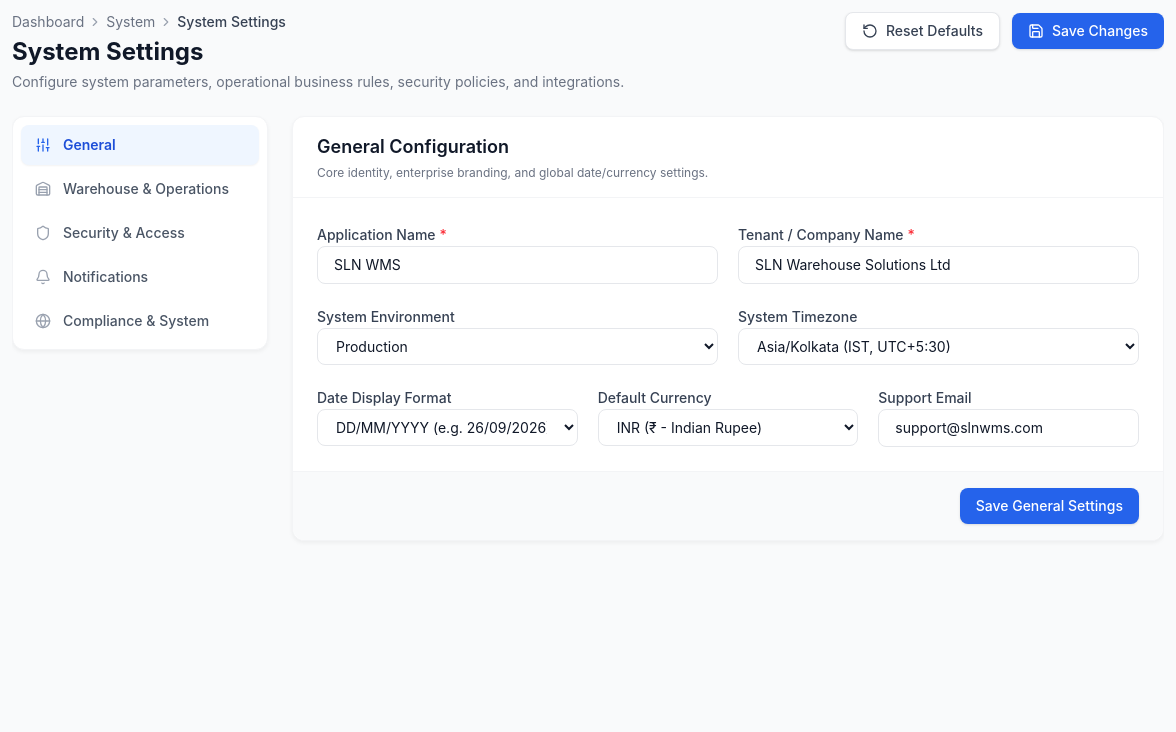
Scenario: SystemSettingsPage Component › should update settings and save to localStorage with success alert
The image size is (1176, 732).
Type "Enterprise WMS Pro" into the field labelled "Application Name*" at [518, 265], box [317,246,718,284]
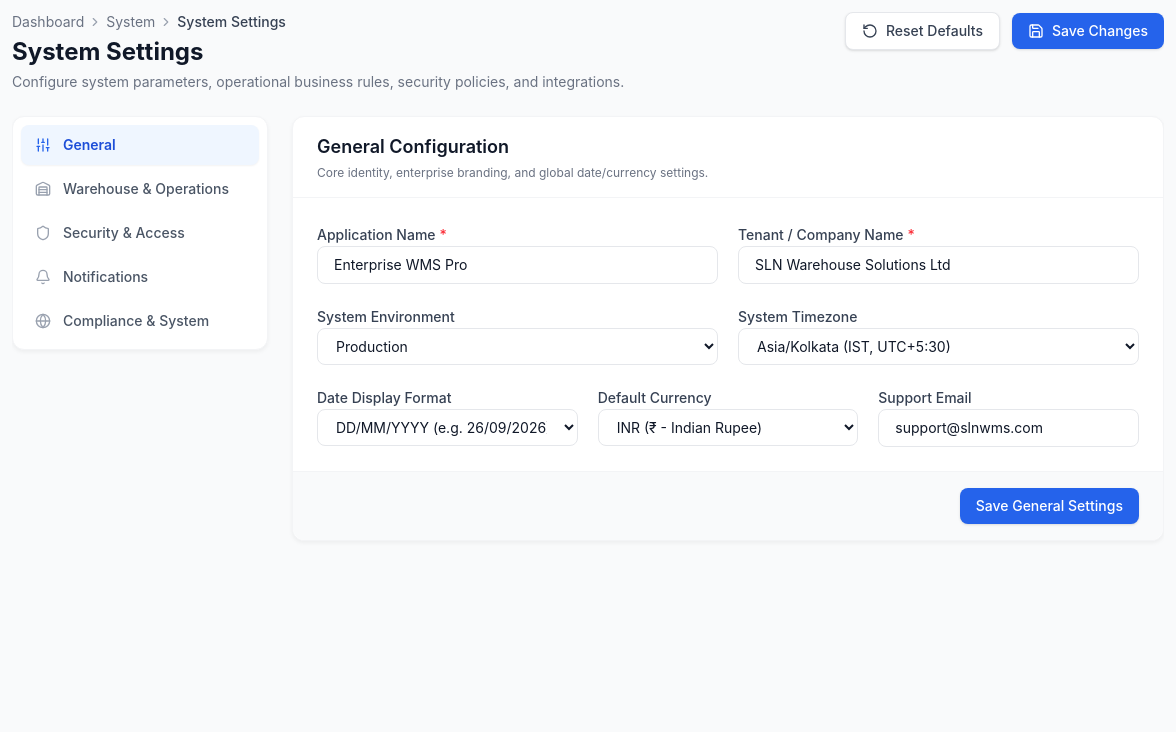
Click the button "Save Changes" at [1088, 31], box [1012,13,1164,49]
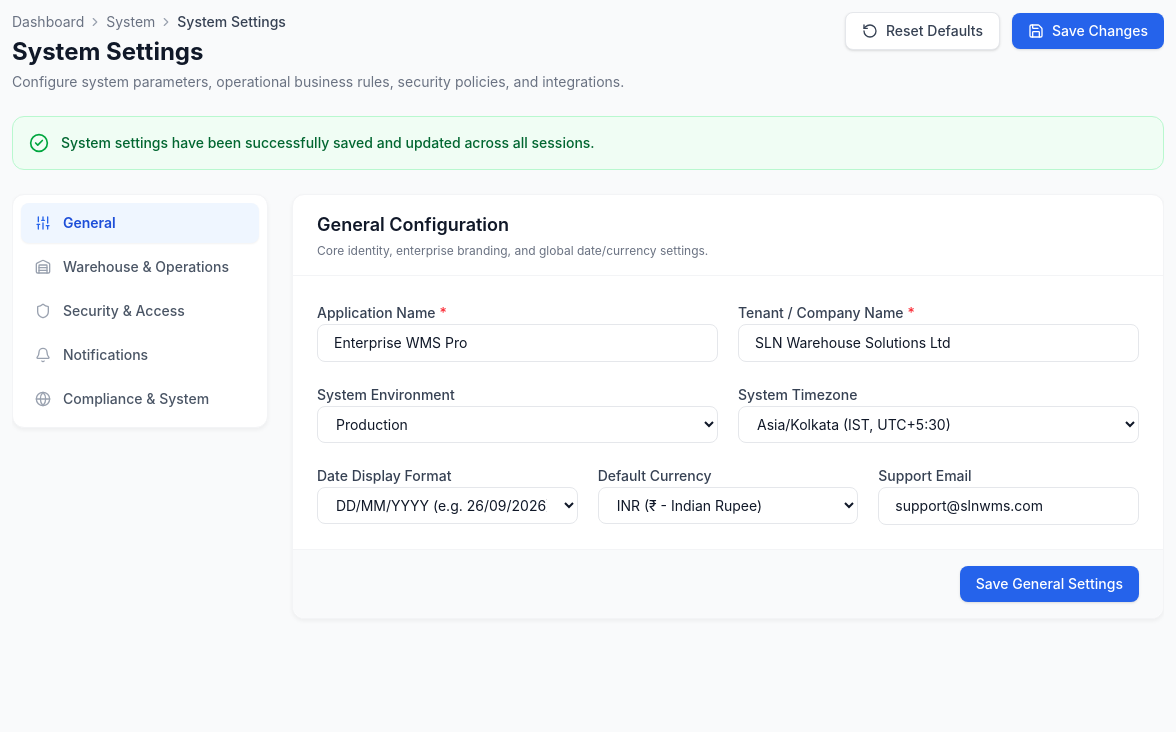
Check: the text "System settings have been successfully saved" is shown, box [61,134,595,151]
